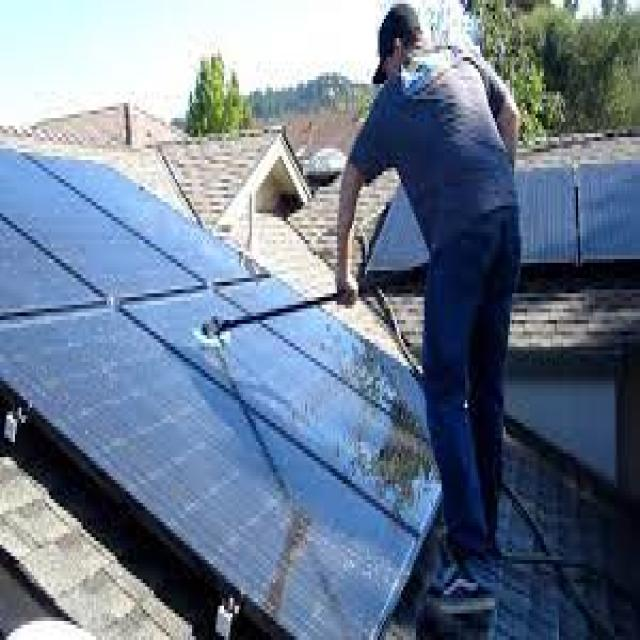clean-solar-panel: (0, 150, 440, 636)
